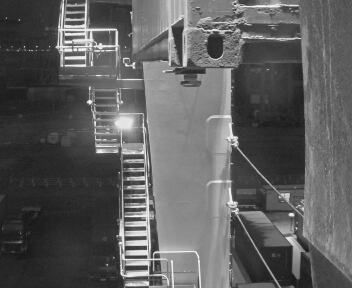twist_lock_1: (159, 157, 198, 190)
